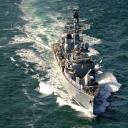Fragata: (13, 5, 64, 118)
